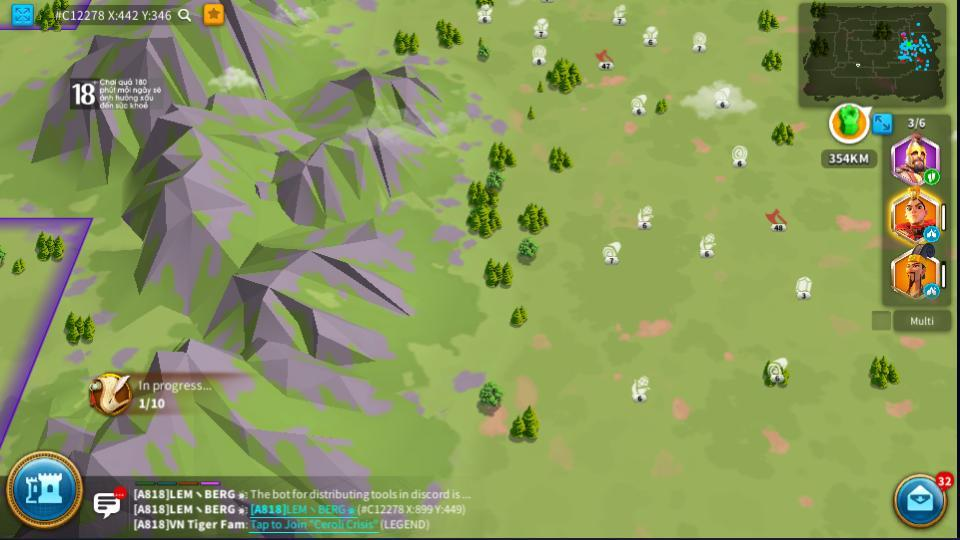gem-z-out: (712, 84, 737, 107), (793, 276, 813, 297)
march_idle: (923, 284, 939, 297), (923, 227, 938, 239)
march_marching: (923, 170, 937, 184)
